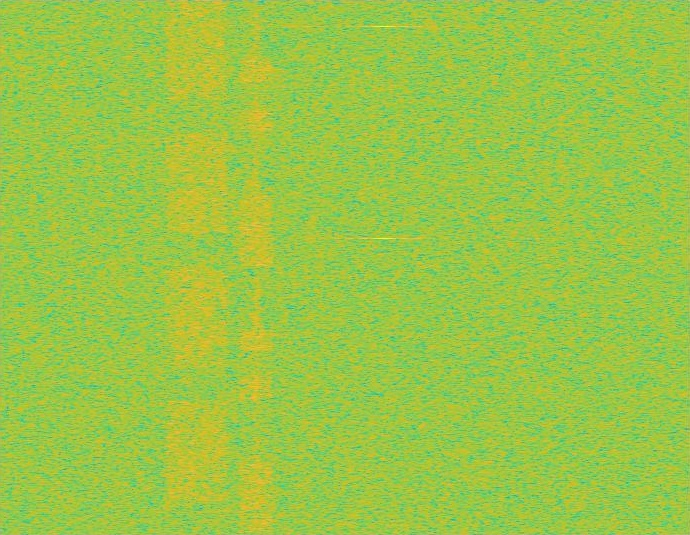5G: (162, 0, 231, 534)
DSSS: (252, 0, 260, 534)
LTE: (239, 0, 273, 534)
Radar: (377, 0, 391, 534)
